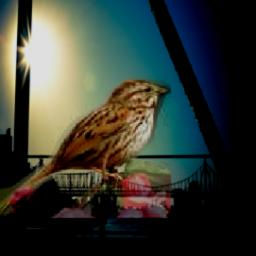Sparrow: (0, 75, 170, 219)
